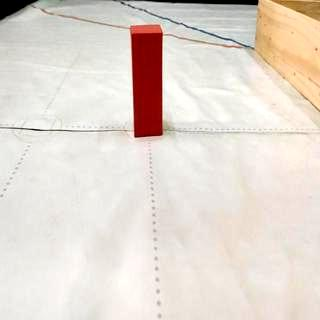redbox: (128, 24, 164, 140)
